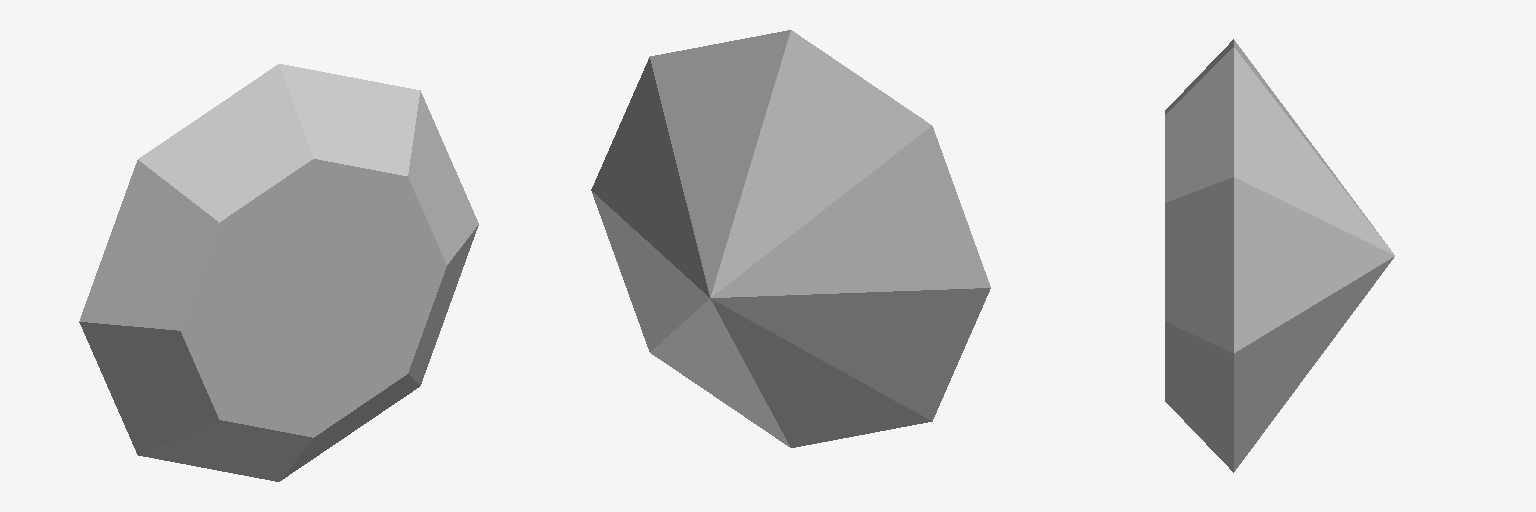
The model's file is tinker.obj.
The picture shows the model from 3 angles: view 1: azimuth 30°, elevation 25°; view 2: azimuth 150°, elevation 25°; view 3: azimuth 270°, elevation 25°; orthographic projection.
Parts seen in each view (by area): view 1: obj_0; view 2: obj_0; view 3: obj_0.
Part boxes in pixels (bbox=[...]): obj_0: bbox=[79, 64, 478, 481]; obj_0: bbox=[591, 30, 990, 447]; obj_0: bbox=[1165, 39, 1394, 472].
Bounding box in the file's own units: 20 × 20 × 10.